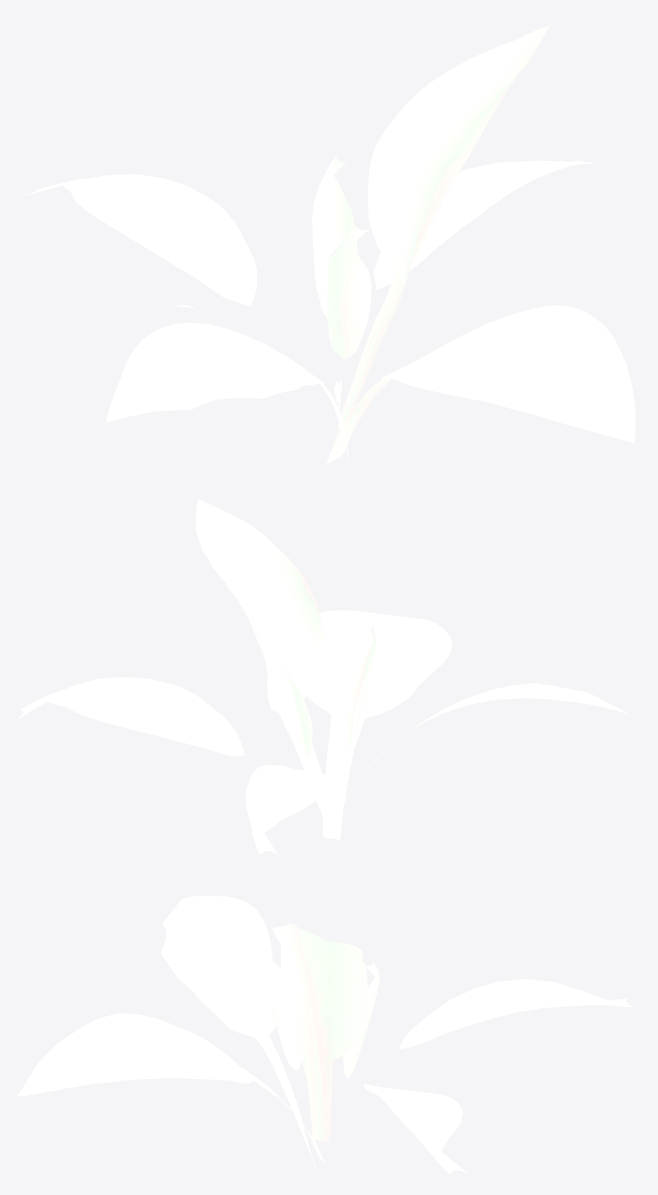
The picture shows the model from 3 angles, top to bottom: view 1: azimuth 30°, elevation 25°; view 2: azimuth 150°, elevation 25°; view 3: azimuth 270°, elevation 25°; orthographic projection. The views are drawn at different scales.
Parts seen in each view (by area): view 1: SM_BM_Sm_Plant_02_LOD0; view 2: SM_BM_Sm_Plant_02_LOD0; view 3: SM_BM_Sm_Plant_02_LOD0.
Part boxes in pixels (x1,y1,x2,y2): SM_BM_Sm_Plant_02_LOD0: (21, 23, 635, 463); SM_BM_Sm_Plant_02_LOD0: (17, 499, 629, 854); SM_BM_Sm_Plant_02_LOD0: (17, 895, 633, 1174).
Size of the model in its own units: 1.24 by 0.7015 by 1.24.
1 material, 1 textured.
